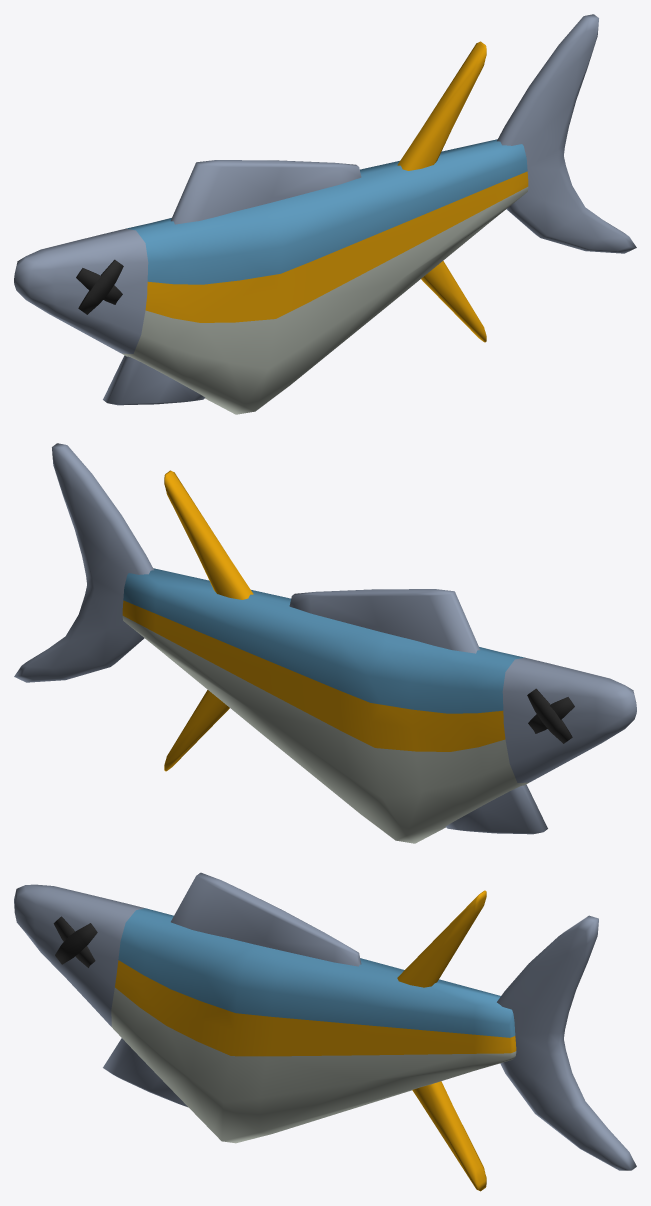
File: quaternius-sushi-restaurant-foodingredient-tuna.glb
The picture shows the model from 3 angles, top to bottom: view 1: azimuth 30°, elevation 25°; view 2: azimuth 150°, elevation 25°; view 3: azimuth 330°, elevation 25°; orthographic projection.
Visible parts, largest first — view 1: FoodIngredient_Tuna; view 2: FoodIngredient_Tuna; view 3: FoodIngredient_Tuna.
Boxes of the visible parts, x1,y1,x2,y2 form: FoodIngredient_Tuna: [14, 14, 636, 414]; FoodIngredient_Tuna: [14, 443, 636, 843]; FoodIngredient_Tuna: [14, 872, 636, 1191].
Size of the model in its own units: 1.56 by 0.7504 by 0.1964.
1 material, 1 textured.
